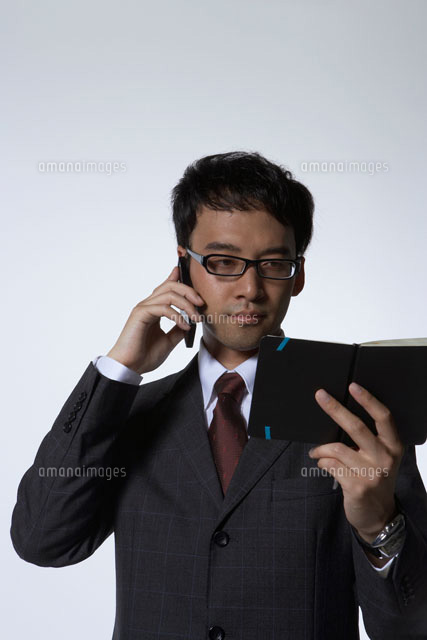phone: (141, 248, 208, 348)
talk: (121, 238, 302, 370)
